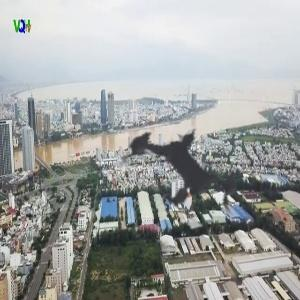drone: (87, 72, 289, 274)
